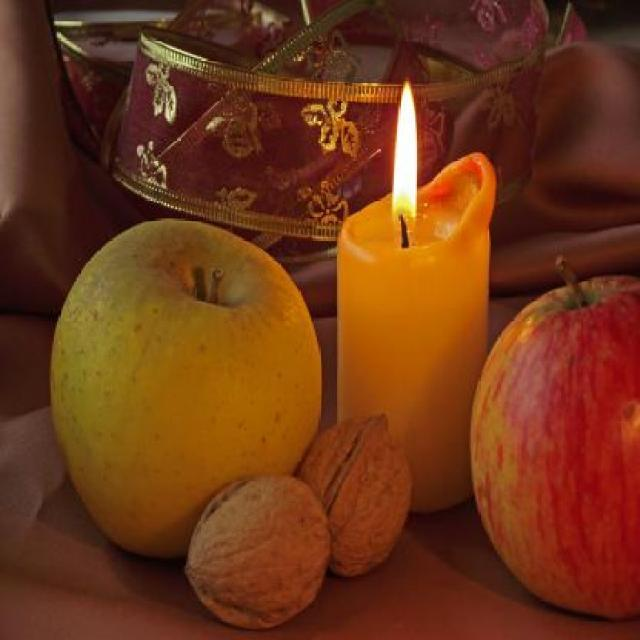Apple pie: (49, 227, 320, 565), (468, 254, 640, 622)
